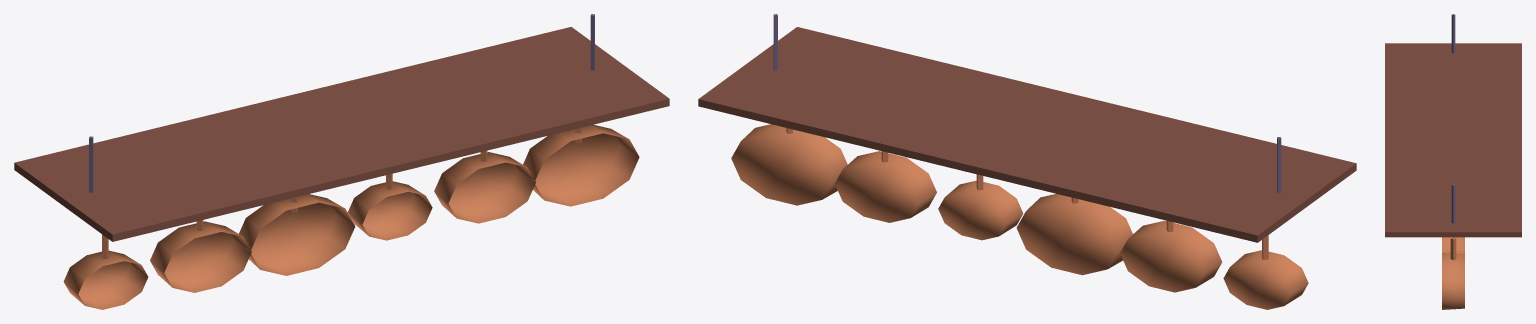
Rendered from pot_rack_hanging.glb.
3 views of the same model, side by side, from view 1: azimuth 30°, elevation 25°; view 2: azimuth 150°, elevation 25°; view 3: azimuth 270°, elevation 25° (orthographic). The views are drawn at different scales.
Visible parts, largest first — view 1: pot_rack_hanging; view 2: pot_rack_hanging; view 3: pot_rack_hanging.
Part boxes in pixels (x1,y1,x2,y2): pot_rack_hanging: [14, 14, 669, 309]; pot_rack_hanging: [698, 14, 1356, 309]; pot_rack_hanging: [1385, 14, 1521, 309].
Size of what is drawn, in the model's own units: 2 by 0.6 by 0.6.
